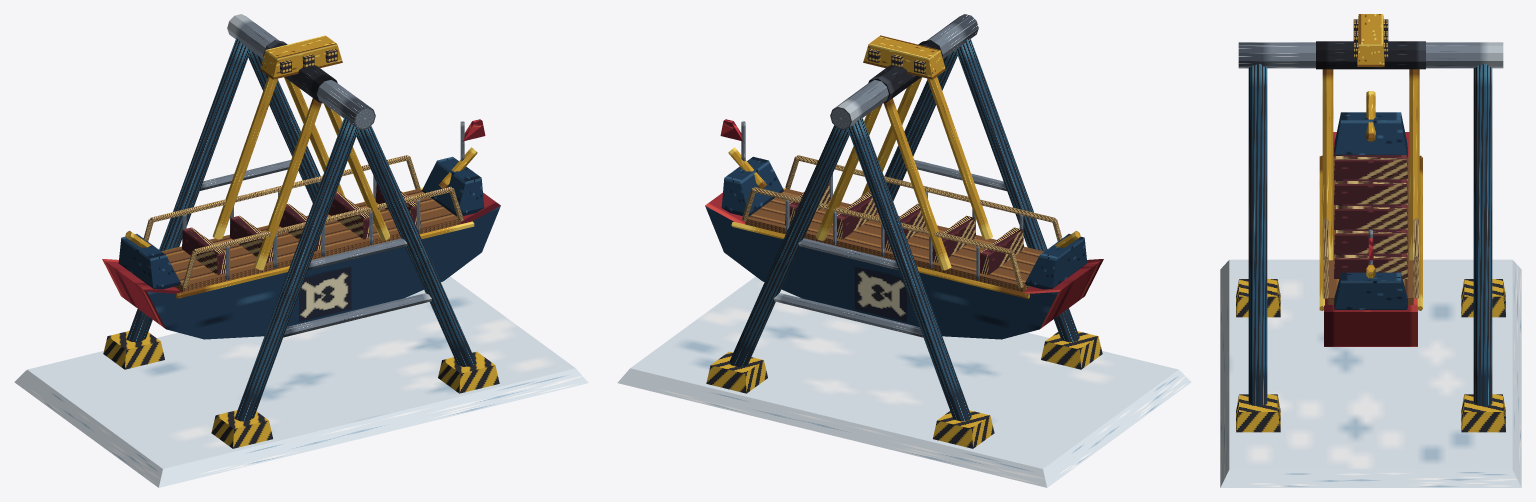
Rendered from SnowcapPirateShip.glb.
3 renders of one model, left to right at view 1: azimuth 30°, elevation 25°; view 2: azimuth 150°, elevation 25°; view 3: azimuth 270°, elevation 25°, orthographic. The views are drawn at different scales.
Visible parts, largest first — view 1: SnowcapPirateShip, SnowcapPirateShip_spin0; view 2: SnowcapPirateShip, SnowcapPirateShip_spin0; view 3: SnowcapPirateShip, SnowcapPirateShip_spin0.
Boxes of the visible parts, x1,y1,x2,y2 form: SnowcapPirateShip: [14, 14, 588, 487]; SnowcapPirateShip_spin0: [102, 40, 500, 339]; SnowcapPirateShip: [617, 14, 1191, 487]; SnowcapPirateShip_spin0: [705, 40, 1103, 339]; SnowcapPirateShip: [1220, 14, 1521, 487]; SnowcapPirateShip_spin0: [1316, 41, 1425, 346].
Bounding box in the file's own units: 7.9 × 5.89 × 4.6.
1 material, 1 textured.
